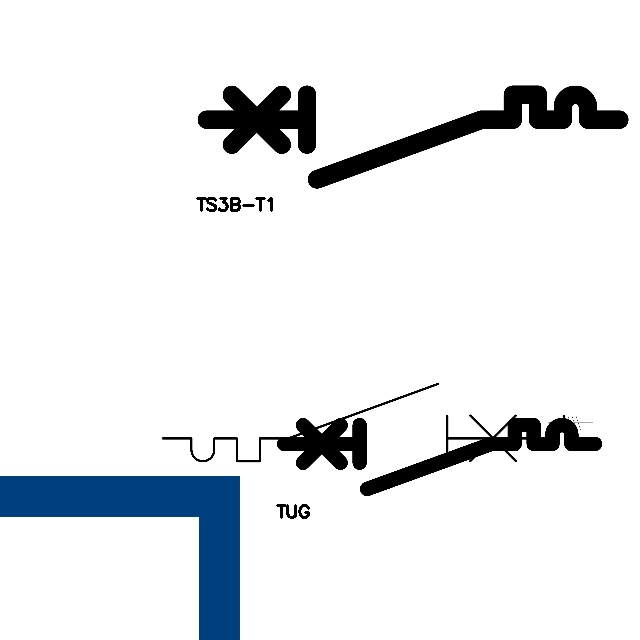interruptor_termomagnetico: (196, 84, 630, 190), (153, 374, 548, 471), (276, 417, 603, 497)
